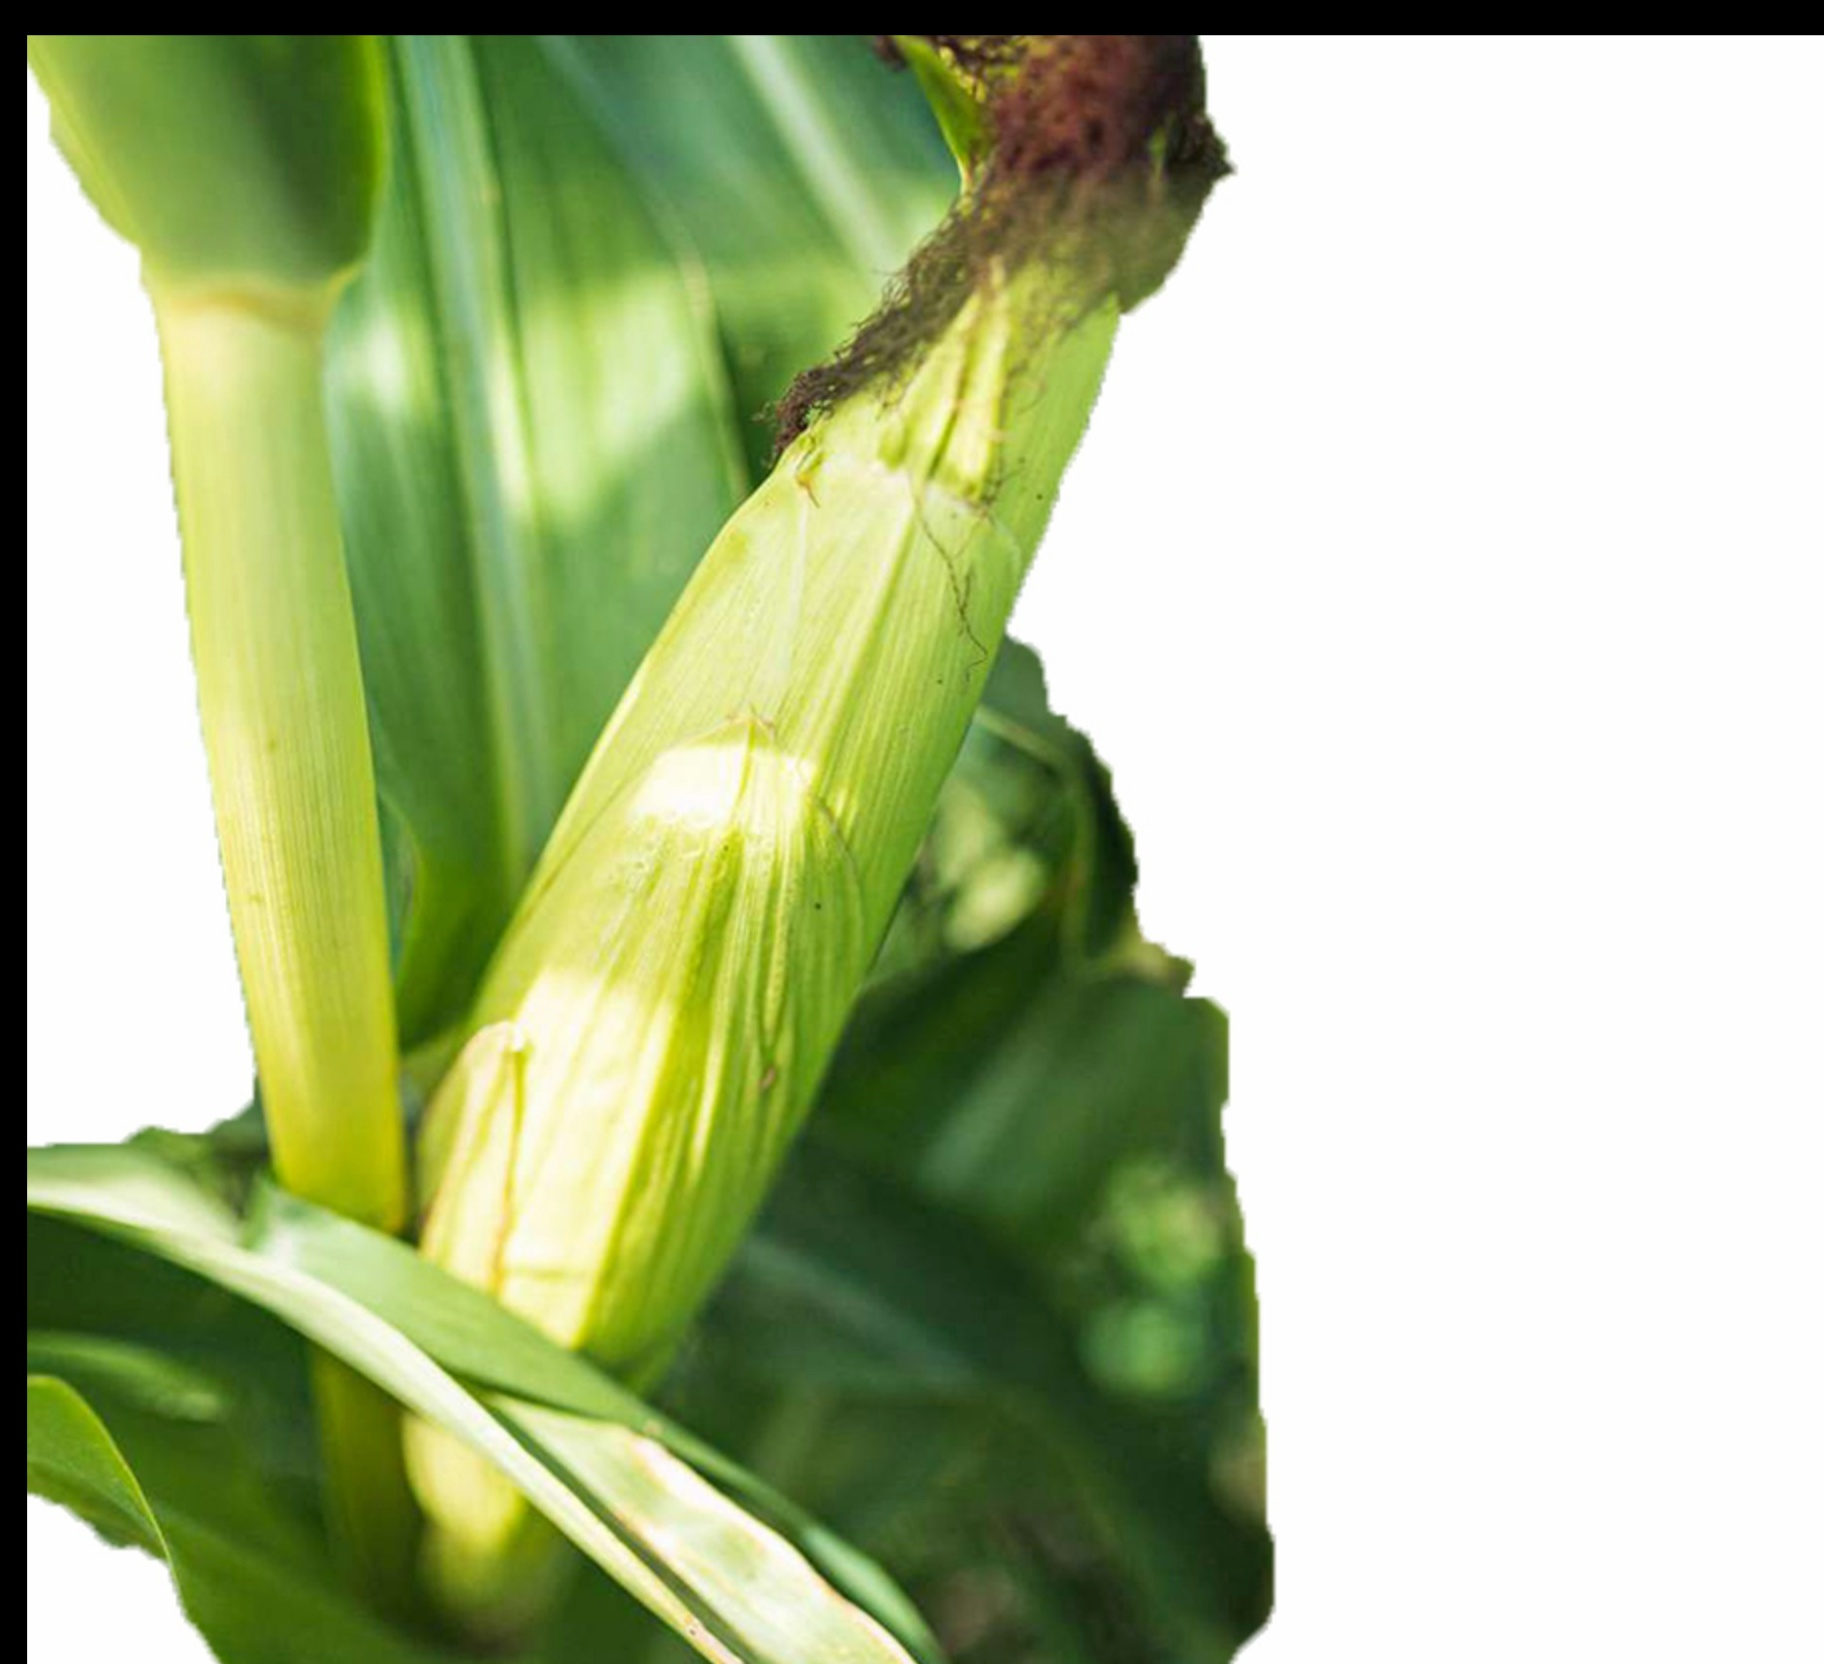corn_plant: (237, 52, 1192, 1586)
